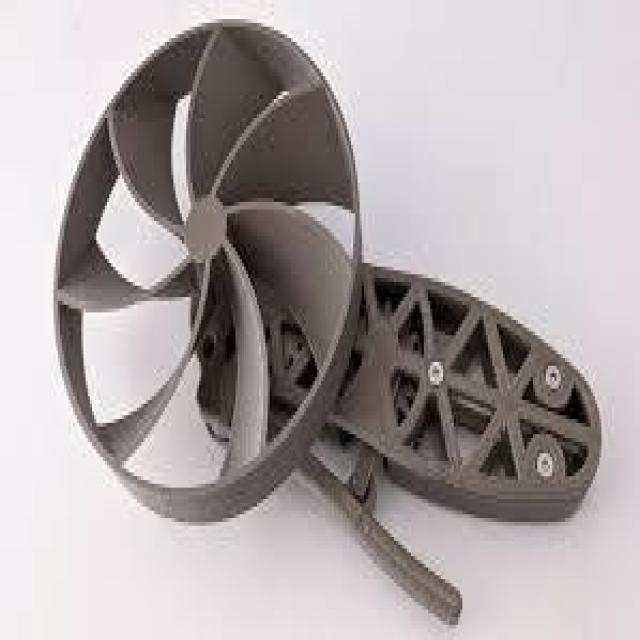Without deffect: (32, 7, 612, 640)
